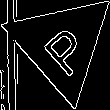P_NW: (32, 13, 92, 76)
